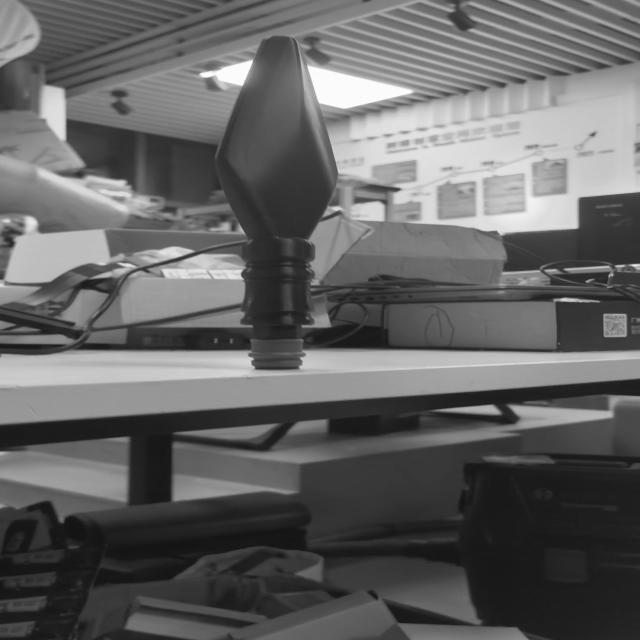base: (245, 336, 311, 372)
